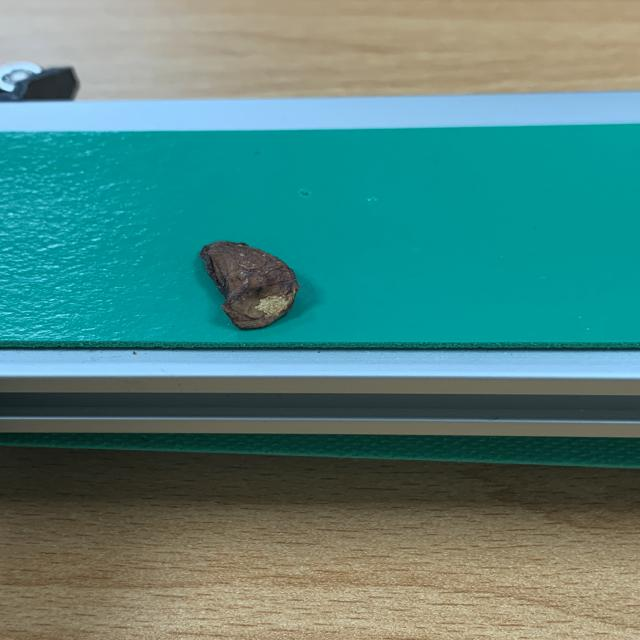Flat_cocoabeans: (109, 208, 366, 350)
